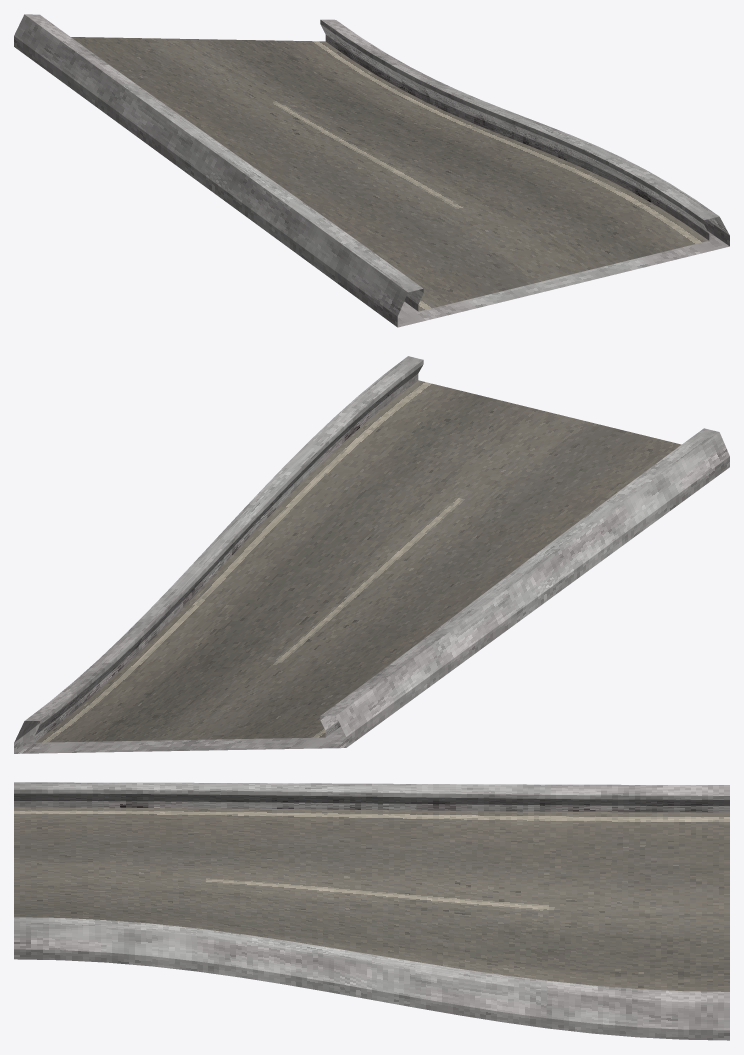
The model's file is road-Straight-Flat-HalfBankedRight-Down1-Center-Size2.glb.
The picture shows the model from 3 angles, top to bottom: view 1: azimuth 30°, elevation 25°; view 2: azimuth 150°, elevation 25°; view 3: azimuth 270°, elevation 25°; orthographic projection. The views are drawn at different scales.
Parts seen in each view (by area): view 1: road-Straight-Flat-HalfBankedRight-Down1-Center-Size2; view 2: road-Straight-Flat-HalfBankedRight-Down1-Center-Size2; view 3: road-Straight-Flat-HalfBankedRight-Down1-Center-Size2.
Boxes of the visible parts, <box> form: road-Straight-Flat-HalfBankedRight-Down1-Center-Size2: <box>14,14,729,327</box>; road-Straight-Flat-HalfBankedRight-Down1-Center-Size2: <box>14,356,729,753</box>; road-Straight-Flat-HalfBankedRight-Down1-Center-Size2: <box>14,782,729,1040</box>.
Bounding box in the file's own units: 1 × 0.3438 × 2.
2 materials, 2 textured.
